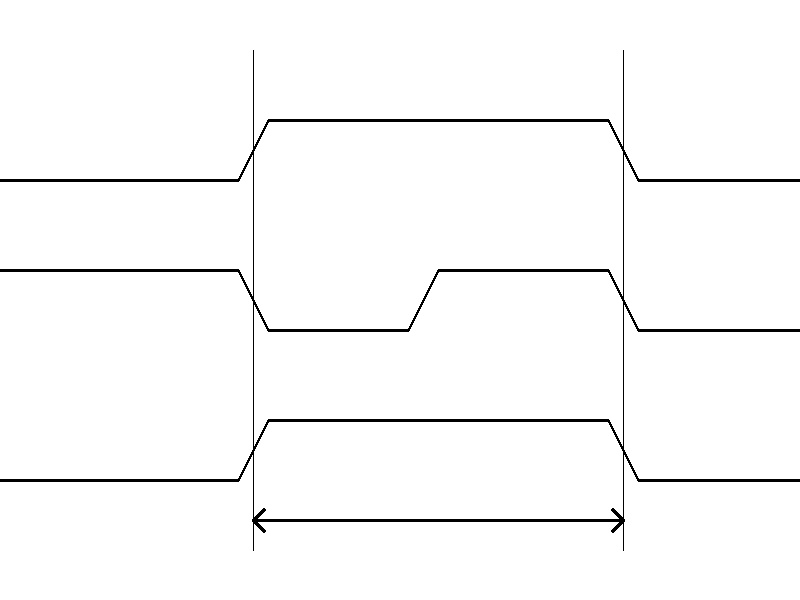double_arrow: (253, 505, 623, 535)
